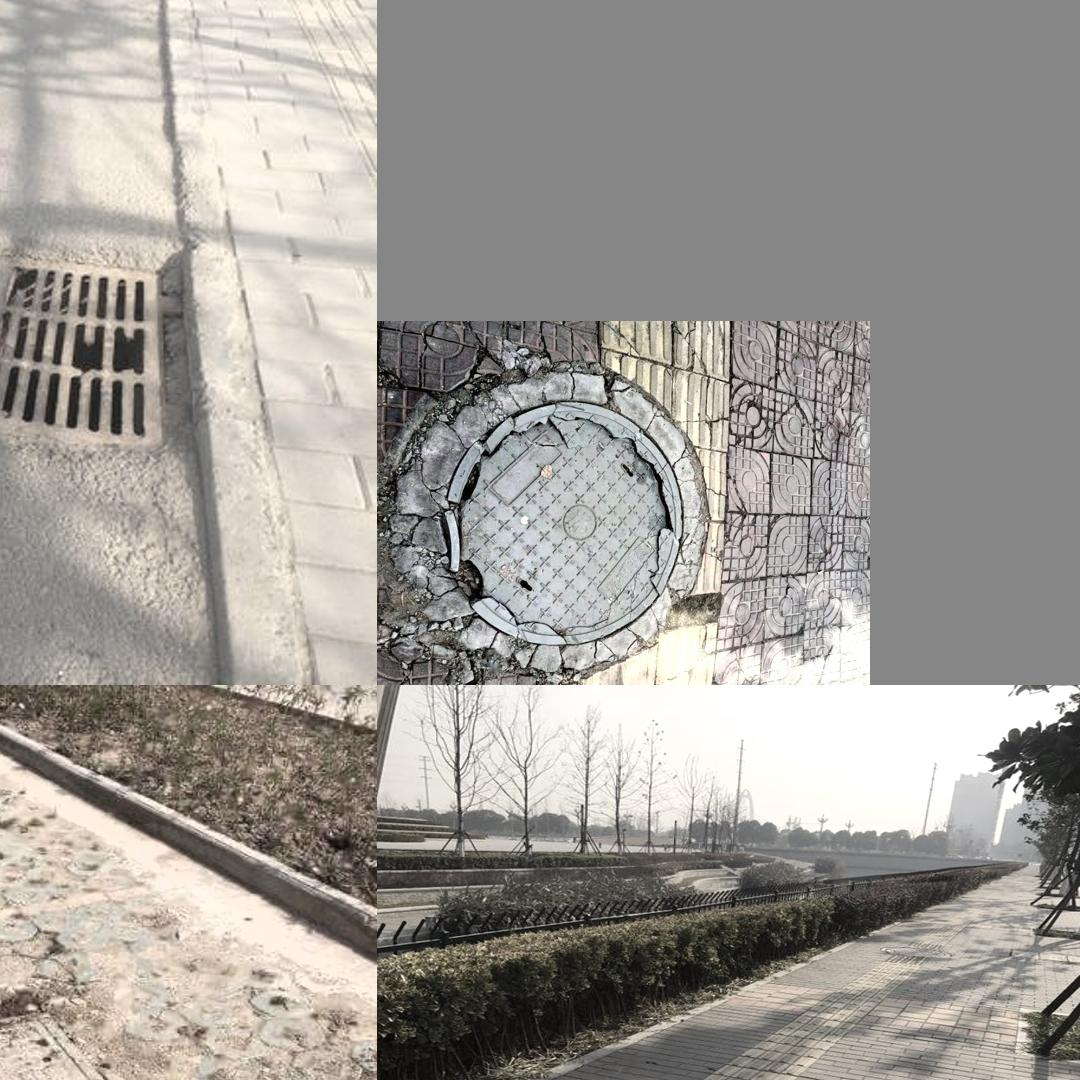circle: (396, 363, 715, 668), (0, 1005, 239, 1080)
